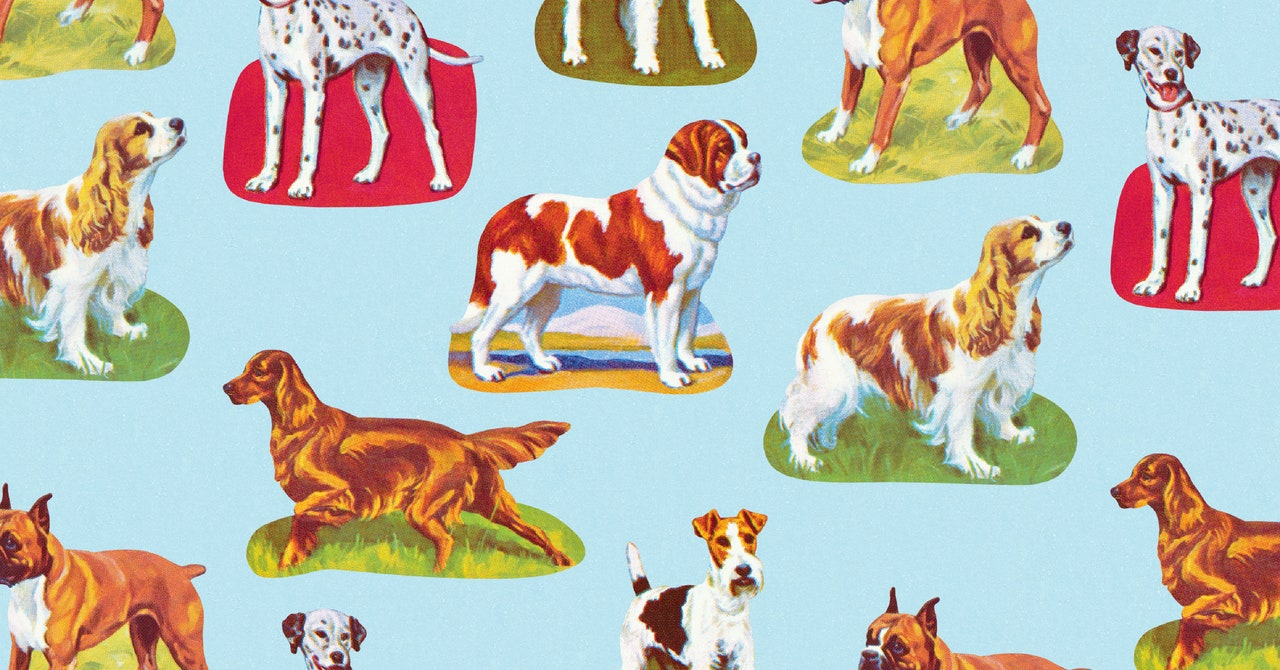pet: (446, 139, 750, 404)
